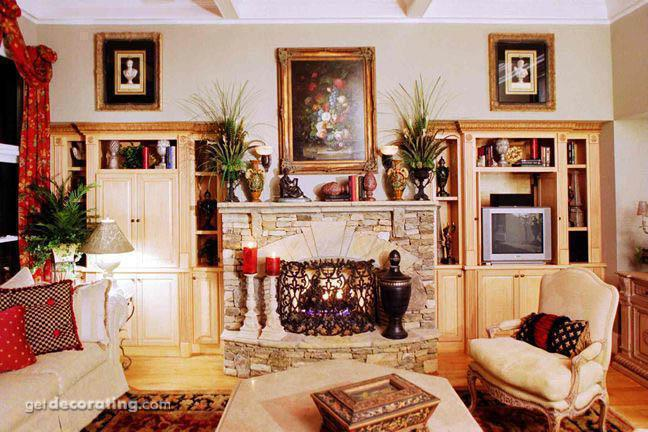Puerta: (97, 169, 180, 352)
Ventana: (0, 57, 48, 275)
